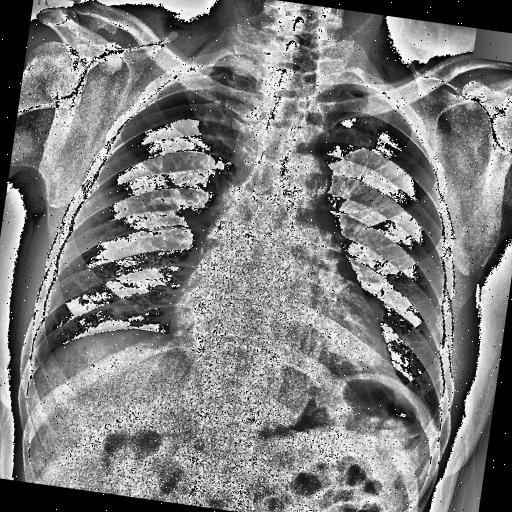0- Aortic enlargement: (272, 148, 338, 214), (284, 150, 333, 196)
11- Pleural thickening: (325, 78, 404, 111)
2- Calcification: (306, 174, 330, 200)
3- Cardiomegaly: (158, 264, 406, 384), (158, 276, 412, 393), (165, 284, 399, 375)
